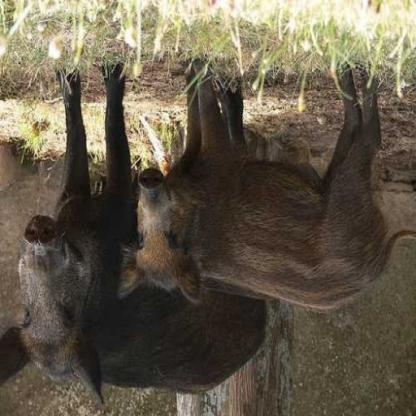boar: (1, 119, 316, 415), (119, 70, 415, 320)
